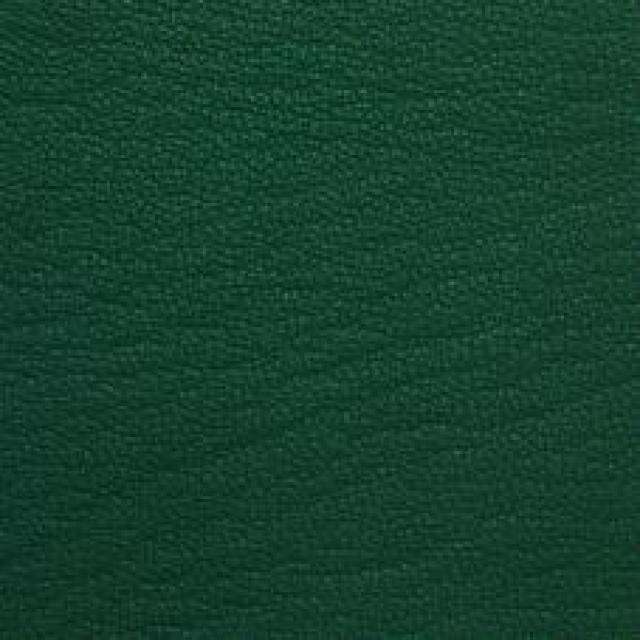Growth Marks: (88, 260, 421, 398), (179, 64, 543, 180)
